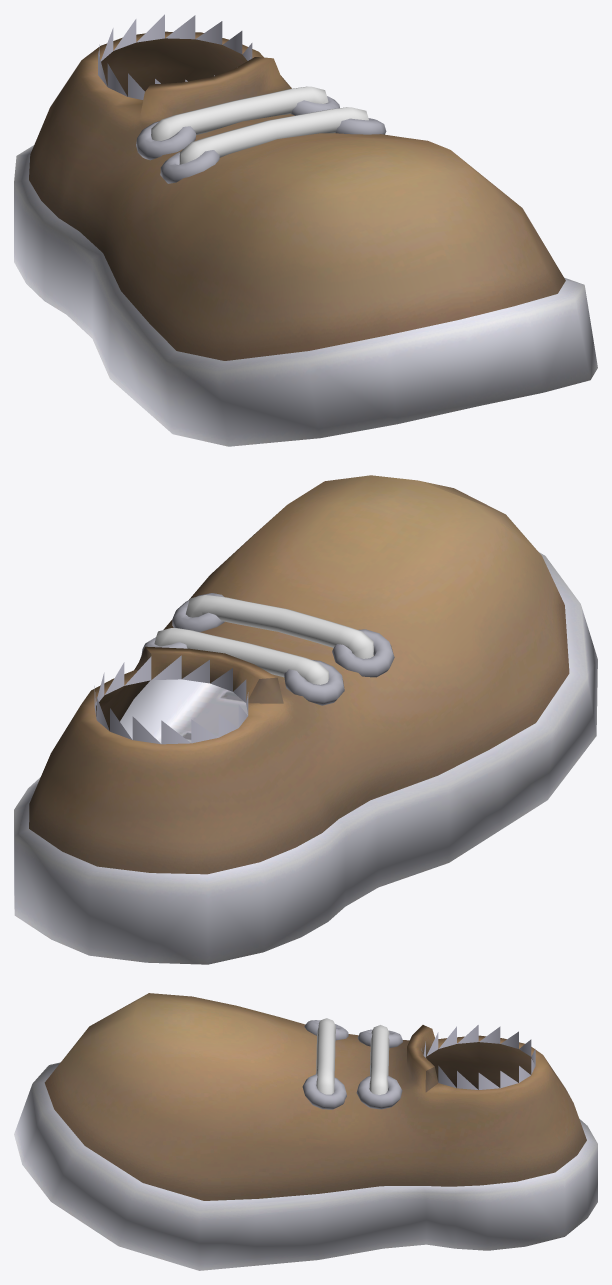
The model's file is crazydave_pie_der.obj.
3 renders of one model, top to bottom at view 1: azimuth 30°, elevation 25°; view 2: azimuth 150°, elevation 25°; view 3: azimuth 270°, elevation 25°, orthographic. The views are drawn at different scales.
Parts seen in each view (by area): view 1: crazydave_pie_der; view 2: crazydave_pie_der; view 3: crazydave_pie_der.
Boxes of the visible parts, x1,y1,x2,y2 form: crazydave_pie_der: (14, 14, 597, 446); crazydave_pie_der: (14, 475, 597, 964); crazydave_pie_der: (14, 993, 597, 1270).
Bounding box in the file's own units: 0.3437 × 0.2184 × 0.6245.
